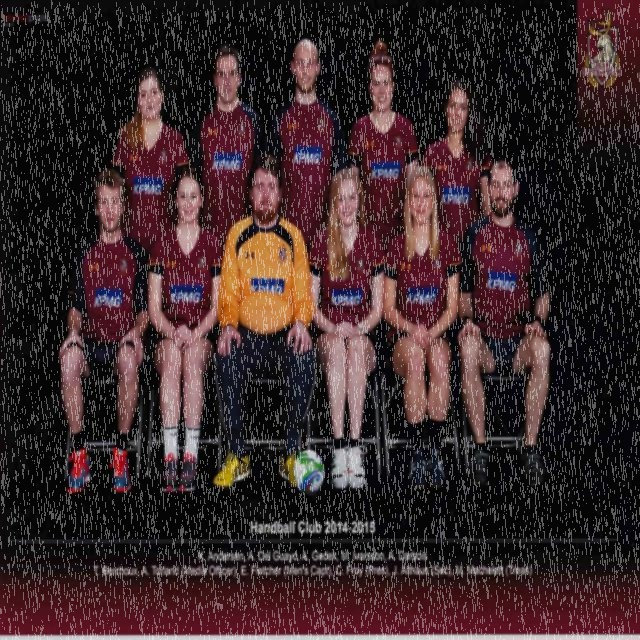pessoa: (210, 148, 319, 494), (454, 152, 554, 494), (56, 165, 152, 499), (303, 164, 389, 496), (144, 162, 228, 496), (381, 162, 464, 496), (266, 36, 348, 252), (188, 40, 268, 250), (346, 36, 420, 258), (109, 65, 191, 254), (418, 76, 494, 252)
